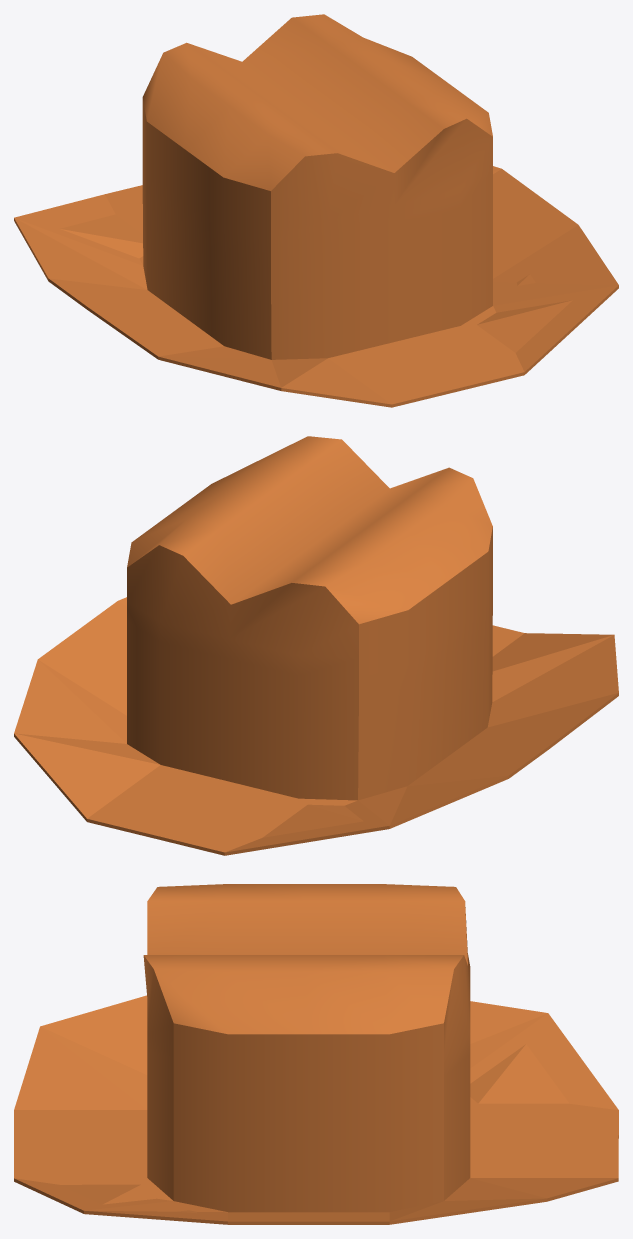
The model's file is chapeau_lambda.FBX.
The picture shows the model from 3 angles, top to bottom: view 1: azimuth 30°, elevation 25°; view 2: azimuth 150°, elevation 25°; view 3: azimuth 270°, elevation 25°; orthographic projection. The views are drawn at different scales.
Visible parts, largest first — view 1: Box002; view 2: Box002; view 3: Box002.
Part boxes in pixels (box(x1,y1,x2,y2)): Box002: box(14, 14, 618, 407); Box002: box(14, 436, 618, 855); Box002: box(14, 884, 618, 1224).
Bounding box in the file's own units: 224 × 98.45 × 246.
